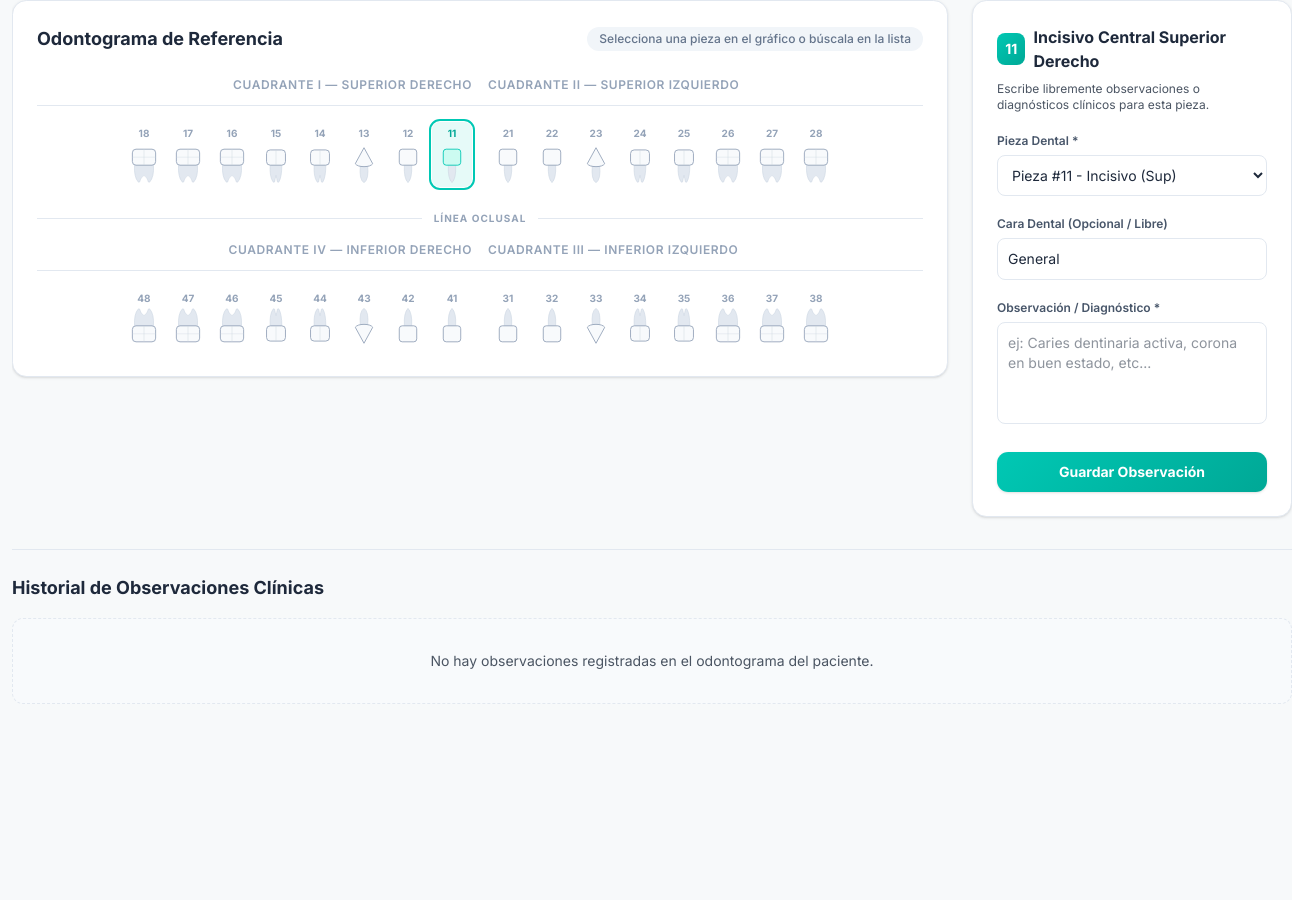
Test case: OdontogramChart Component › 4. failed save shows the returned error message
Type "Caries activa" into the text box labelled "Observación / Diagnóstico *".
click(1132, 373); type("Caries activa")  # box [997,322,1267,424]
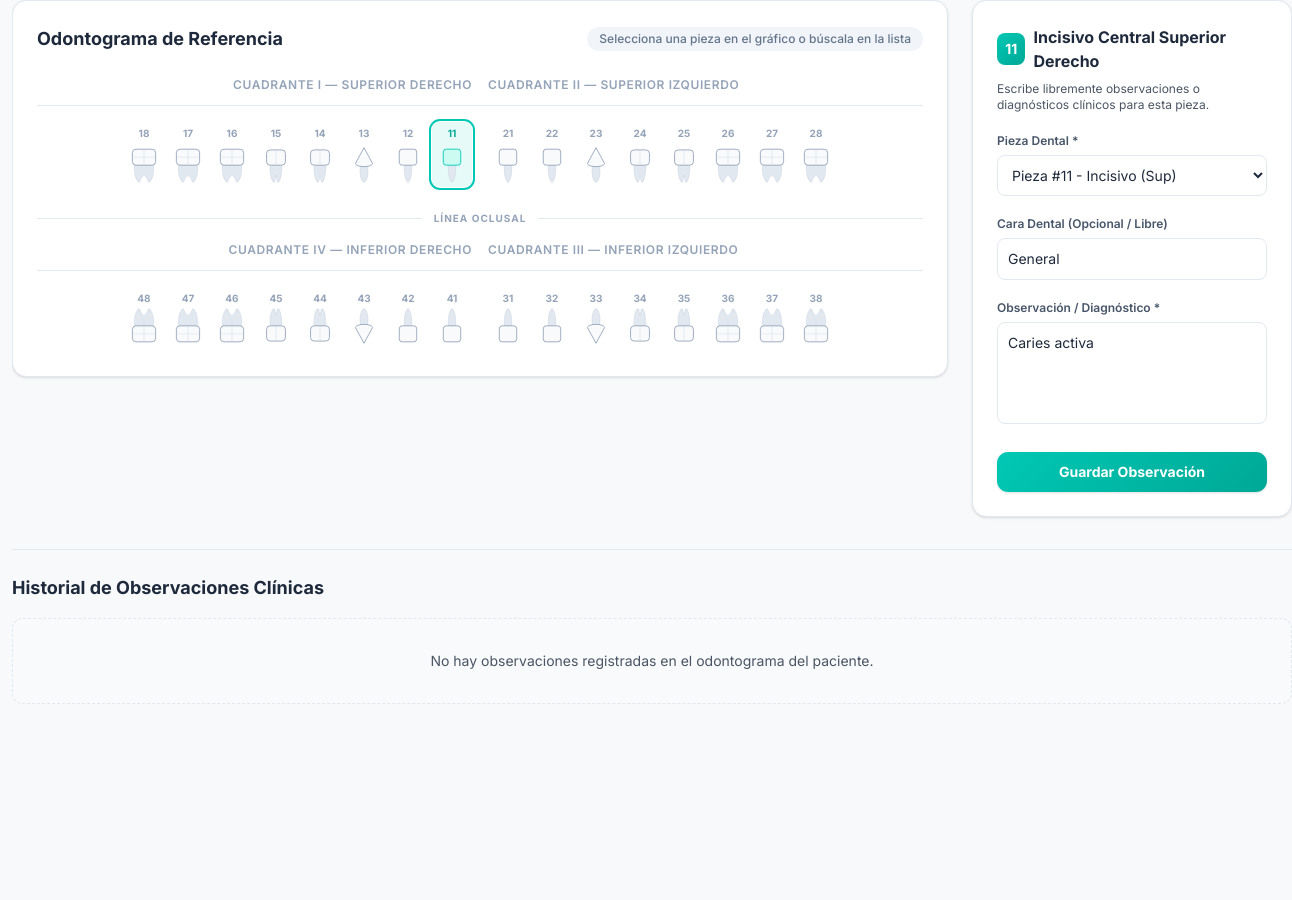
Click the button "Guardar Observación".
click(1132, 472)  # box [997,452,1267,492]
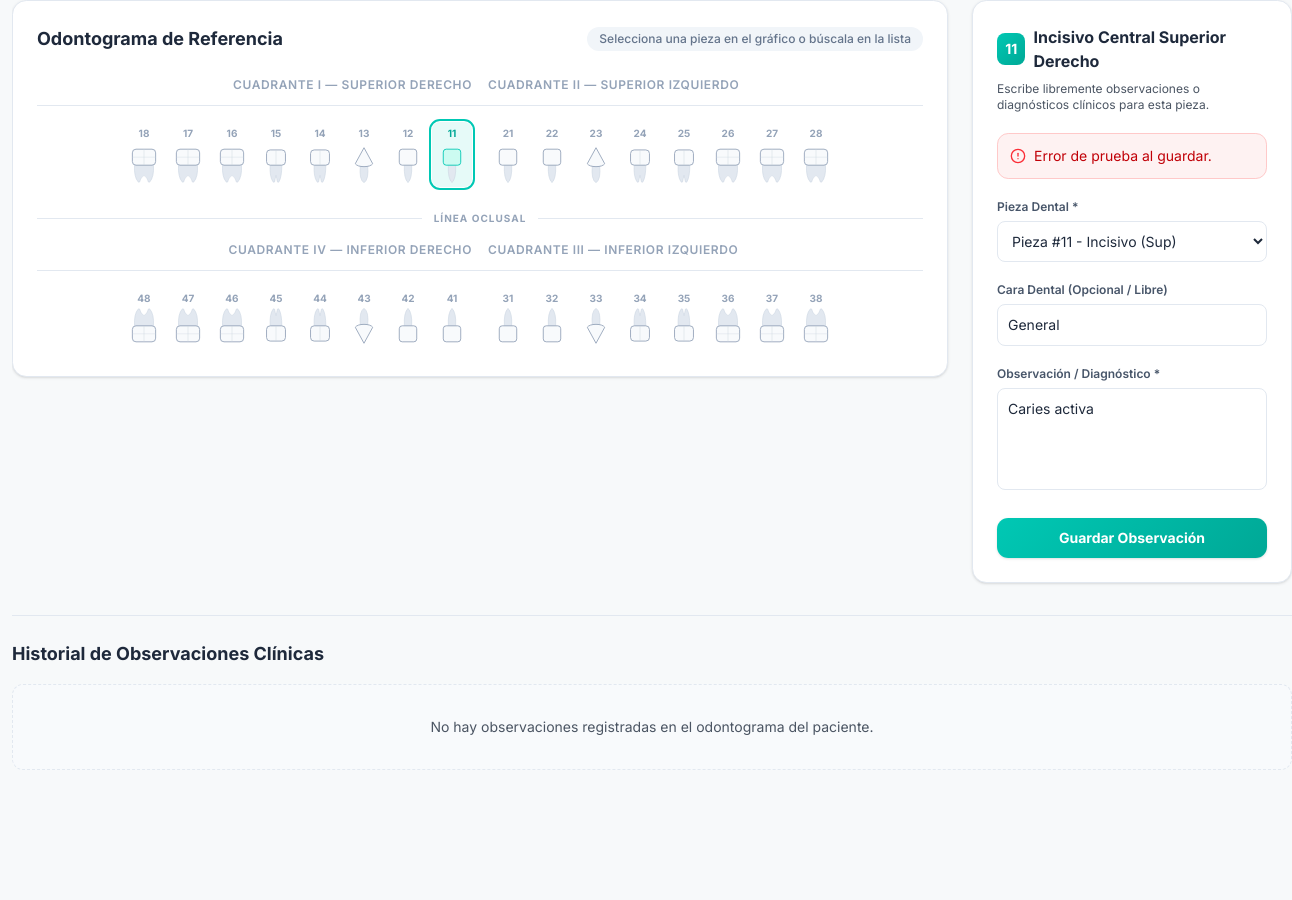
Result: the text "Error de prueba al guardar." is shown at [1034,146,1212,166]
